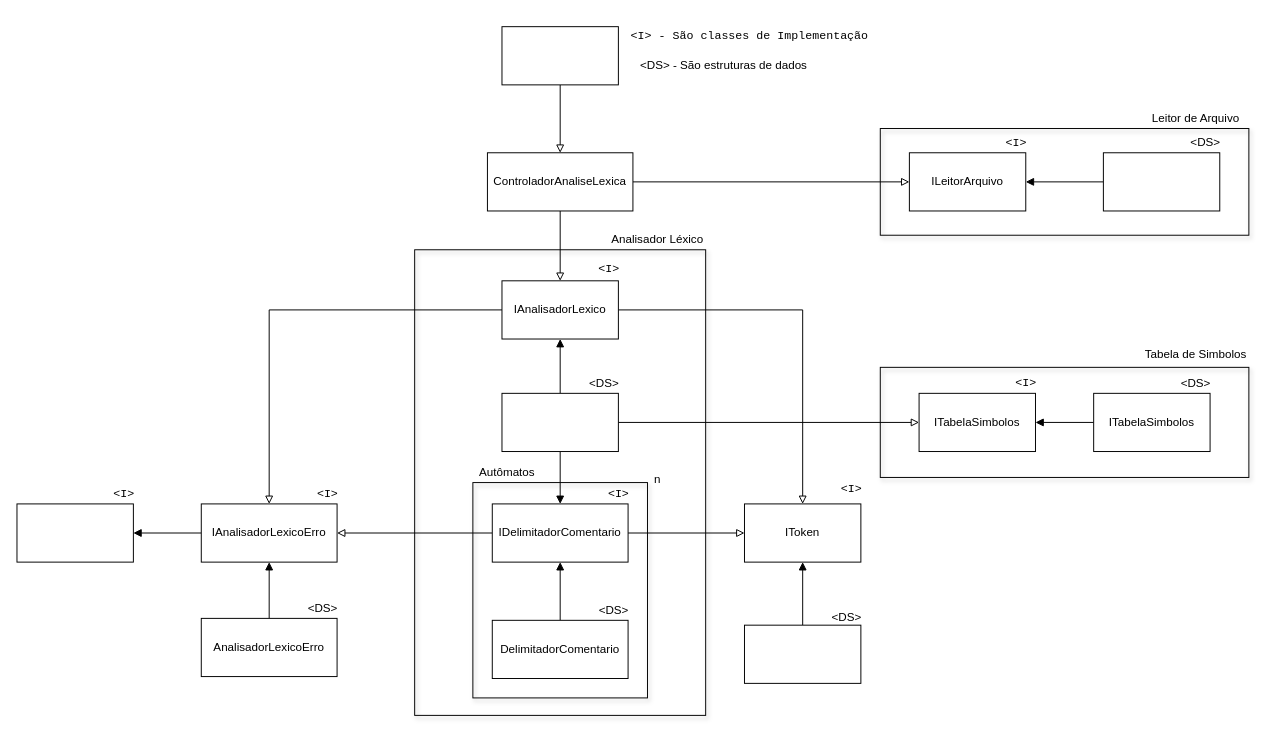
The diagram is 1272 pixels wide and 739 high, and some of its shapes have lost their labels. The centre of each missing label's shape, as x and y in pixels:
"AnalisadorLexico" belongs at [559,422].
"IErro" belongs at [74,532].
"LeitorArquivo" belongs at [1161,181].
"Main" belongs at [559,55].
"Token" belongs at [802,653].
